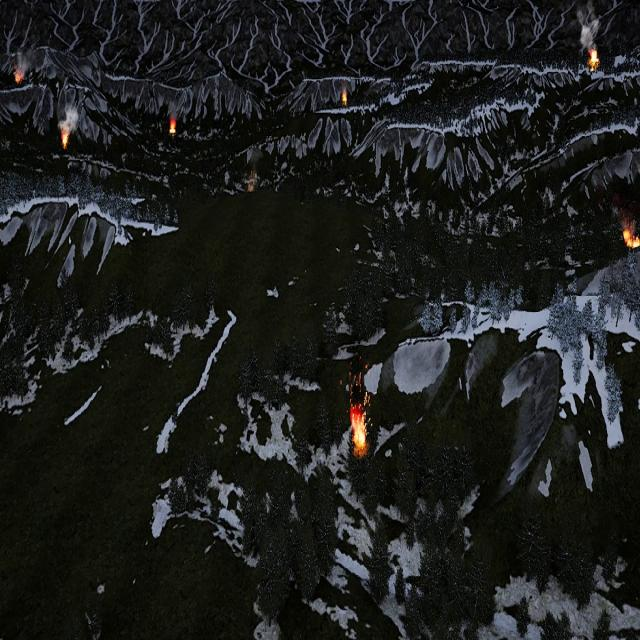fire: (350, 403, 367, 448), (624, 220, 640, 248), (590, 48, 599, 64), (341, 88, 349, 106), (62, 132, 70, 147), (13, 70, 22, 82), (170, 118, 177, 133)
smoke: (577, 1, 601, 52), (58, 100, 82, 133)
